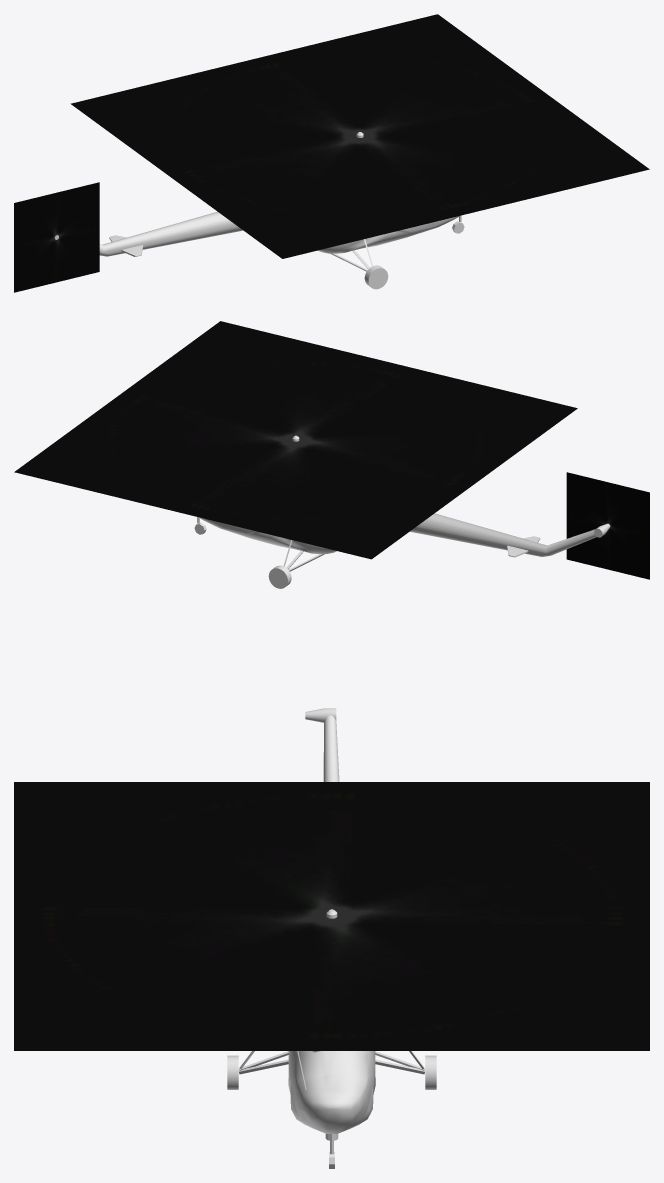
The model's file is Mil_Mi-1..fbx.
The picture shows the model from 3 angles, top to bottom: view 1: azimuth 30°, elevation 25°; view 2: azimuth 150°, elevation 25°; view 3: azimuth 270°, elevation 25°; orthographic projection. The views are drawn at different scales.
Visible parts, largest first — view 1: chopper-blades-spinning-400x400, chopper-blades-spinning-400x400.001, Cube.001; view 2: chopper-blades-spinning-400x400, chopper-blades-spinning-400x400.001, Cube.001; view 3: chopper-blades-spinning-400x400, Cube.001.
Part boxes in pixels (x1=…): chopper-blades-spinning-400x400: x1=70, y1=14, x2=649, y2=258; chopper-blades-spinning-400x400.001: x1=14, y1=182, x2=99, y2=292; Cube.001: x1=54, y1=132, x2=464, y2=289; chopper-blades-spinning-400x400: x1=14, y1=321, x2=577, y2=559; chopper-blades-spinning-400x400.001: x1=566, y1=472, x2=649, y2=579; Cube.001: x1=194, y1=435, x2=610, y2=588; chopper-blades-spinning-400x400: x1=14, y1=782, x2=649, y2=1050; Cube.001: x1=227, y1=708, x2=436, y2=1168.
Size of the model in its own units: 1481 by 392 by 1011.
